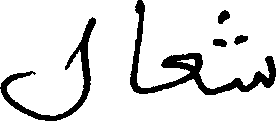ا: (127, 0, 143, 95)
ش: (211, 7, 274, 95)
ع: (160, 51, 202, 94)
ل: (0, 14, 95, 119)
